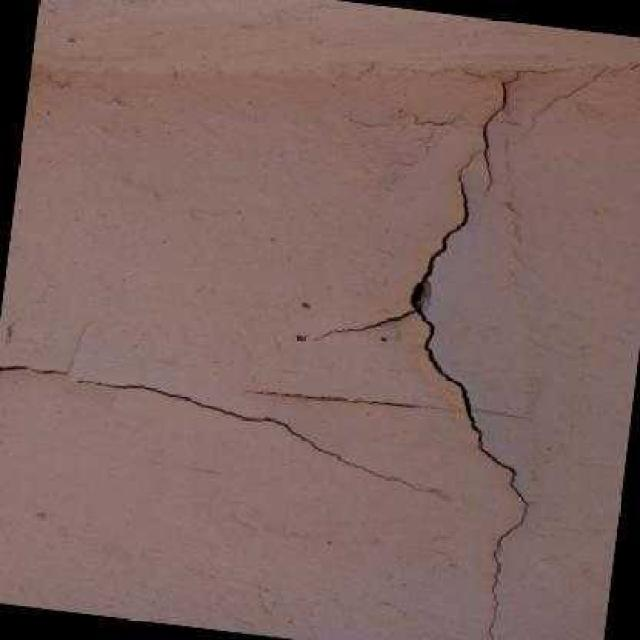D00: (297, 59, 640, 640), (66, 375, 441, 495), (244, 386, 445, 411), (399, 109, 458, 129), (0, 363, 72, 378)
